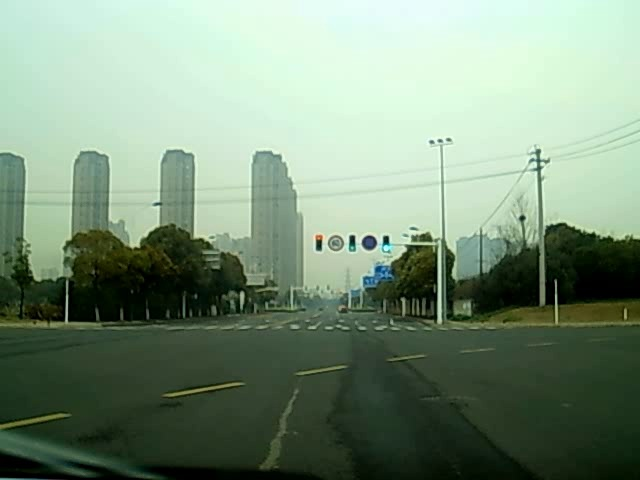Traffic_Light_go: (349, 236, 356, 254), (384, 238, 390, 255)
Traffic_Light_stop: (315, 236, 323, 253)
